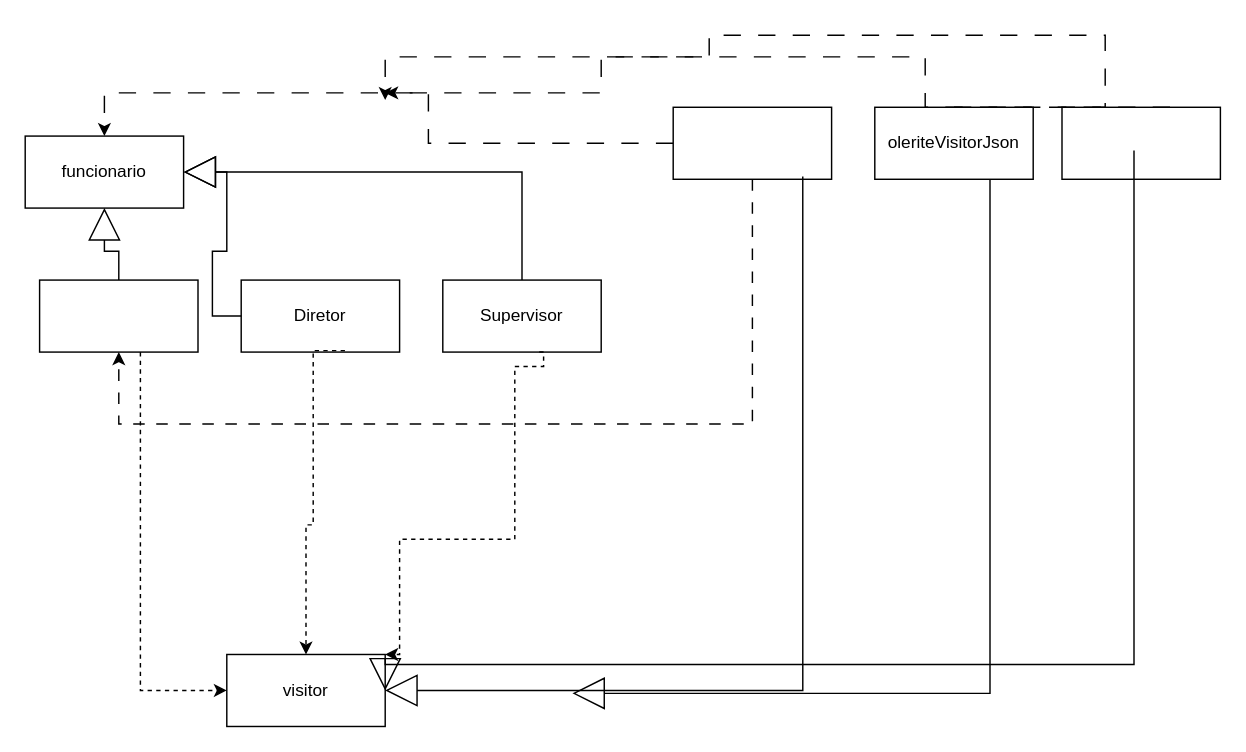
Some shapes in this 1246 by 752 pixel diagram are drawn without their labels. Each missing label, with the centre of its shape:
oleriteVisitorCsv: (752,142)
oleriteVisitorXml: (1140,142)
Peão: (118,315)
